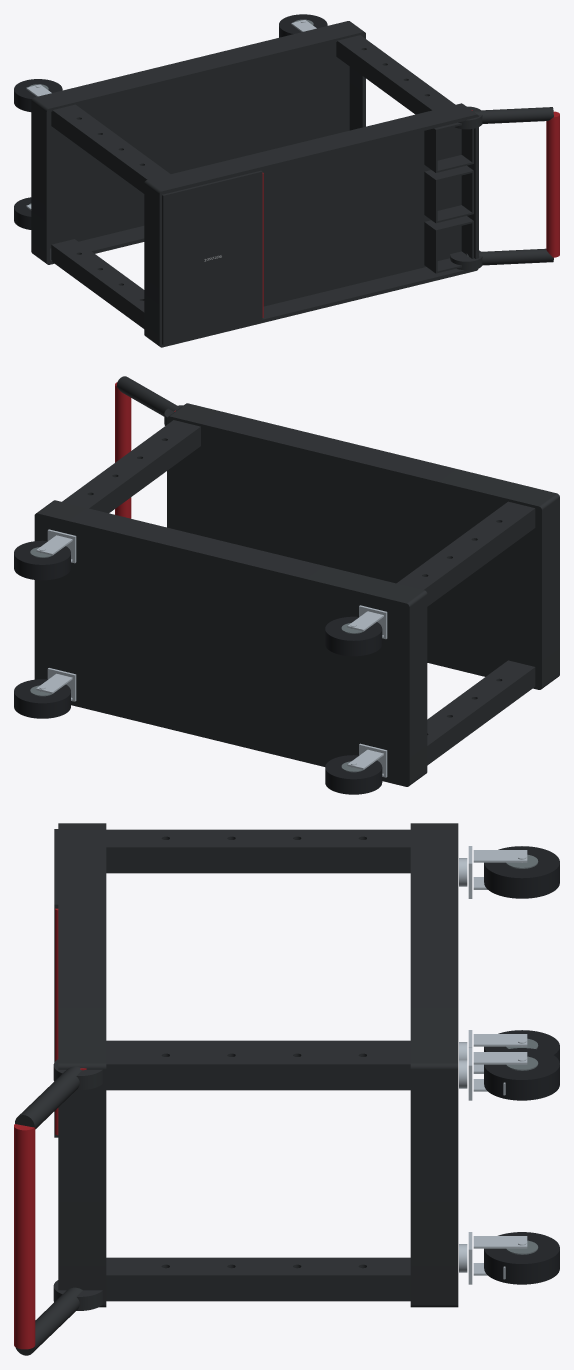
File: supply_rubbermaid_1997206.glb
3 views of the same model, one above another, from view 1: azimuth 30°, elevation 25°; view 2: azimuth 150°, elevation 25°; view 3: azimuth 270°, elevation 25° (orthographic). The views are drawn at different scales.
Parts seen in each view (by area): view 1: lower_shelf, upper_shelf, folding_work_surface, perforated_leg_-0.43_0.195, perforated_leg_0.43_0.195, perforated_leg_-0.43_-0.195, handle_storage_well_0, handle_storage_well_-0.145, handle_storage_well_0.145, handle_crossbar, handle_arm_0.204, handle_arm_-0.204 (+5 smaller); view 2: lower_shelf, upper_shelf, perforated_leg_-0.43_0.195, perforated_leg_0.43_0.195, perforated_leg_-0.43_-0.195, rubber_wheel_-0.4_0.17, rubber_wheel_-0.4_-0.17, rubber_wheel_0.4_-0.17, rubber_wheel_0.4_0.17, handle_crossbar, handle_arm_0.204; view 3: lower_shelf, upper_shelf, perforated_leg_-0.43_0.195, perforated_leg_0.43_-0.195, perforated_leg_0.43_0.195, handle_crossbar, rubber_wheel_-0.4_0.17, rubber_wheel_0.4_0.17, rubber_wheel_0.4_-0.17, perforated_leg_-0.43_-0.195, handle_arm_0.204, handle_arm_-0.204 (+6 smaller).
Boxes of the visible parts, x1,y1,x2,y2 form: lower_shelf: [31, 21, 365, 264]; upper_shelf: [144, 103, 478, 347]; folding_work_surface: [162, 170, 262, 344]; perforated_leg_-0.43_0.195: [51, 104, 170, 193]; perforated_leg_0.43_0.195: [336, 35, 455, 114]; perforated_leg_-0.43_-0.195: [51, 239, 144, 328]; handle_storage_well_0: [424, 165, 473, 223]; handle_storage_well_-0.145: [424, 216, 473, 273]; handle_storage_well_0.145: [424, 122, 473, 172]; handle_crossbar: [546, 111, 559, 257]; handle_arm_0.204: [472, 107, 553, 123]; handle_arm_-0.204: [466, 248, 553, 265]; lower_shelf: [34, 500, 427, 786]; upper_shelf: [167, 403, 559, 689]; perforated_leg_-0.43_0.195: [396, 501, 535, 606]; perforated_leg_0.43_0.195: [62, 420, 200, 513]; perforated_leg_-0.43_-0.195: [427, 660, 535, 765]; rubber_wheel_-0.4_0.17: [325, 616, 382, 656]; rubber_wheel_-0.4_-0.17: [325, 755, 382, 794]; rubber_wheel_0.4_-0.17: [14, 679, 70, 718]; rubber_wheel_0.4_0.17: [14, 540, 70, 580]; handle_crossbar: [115, 382, 131, 518]; handle_arm_0.204: [116, 376, 180, 416]; lower_shelf: [410, 823, 458, 1307]; upper_shelf: [58, 823, 106, 1307]; perforated_leg_-0.43_0.195: [106, 829, 410, 873]; perforated_leg_0.43_-0.195: [106, 1257, 410, 1301]; perforated_leg_0.43_0.195: [106, 1046, 410, 1090]; handle_crossbar: [14, 1124, 35, 1349]; rubber_wheel_-0.4_0.17: [484, 846, 559, 898]; rubber_wheel_0.4_0.17: [484, 1048, 559, 1100]; rubber_wheel_0.4_-0.17: [484, 1232, 559, 1284]; perforated_leg_-0.43_-0.195: [106, 1040, 410, 1046]; handle_arm_0.204: [15, 1066, 81, 1129]; handle_arm_-0.204: [15, 1287, 82, 1355].
Bounding box in the file's own units: 1.17 × 0.4509 × 0.9144.
Materials: 8 (1 with a texture image).
